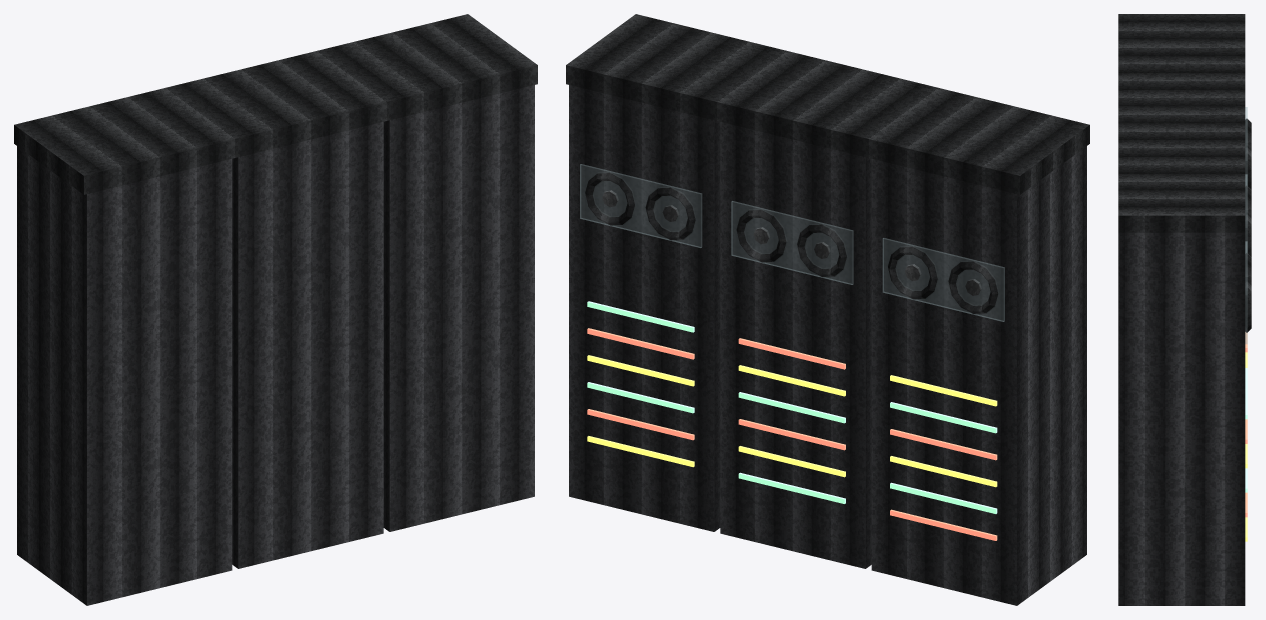
The model's file is mainframe.glb.
The picture shows the model from 3 angles, left to right: view 1: azimuth 30°, elevation 25°; view 2: azimuth 150°, elevation 25°; view 3: azimuth 270°, elevation 25°; orthographic projection. The views are drawn at different scales.
Parts seen in each view (by area): view 1: mainframe; view 2: mainframe; view 3: mainframe.
Boxes of the visible parts, left/top/right/bottom form: mainframe: left=14, top=14, right=537, bottom=605; mainframe: left=566, top=14, right=1089, bottom=605; mainframe: left=1118, top=14, right=1251, bottom=605.
Size of the model in its own units: 3 by 2.72 by 0.84.
Materials: 7 (3 with a texture image).
